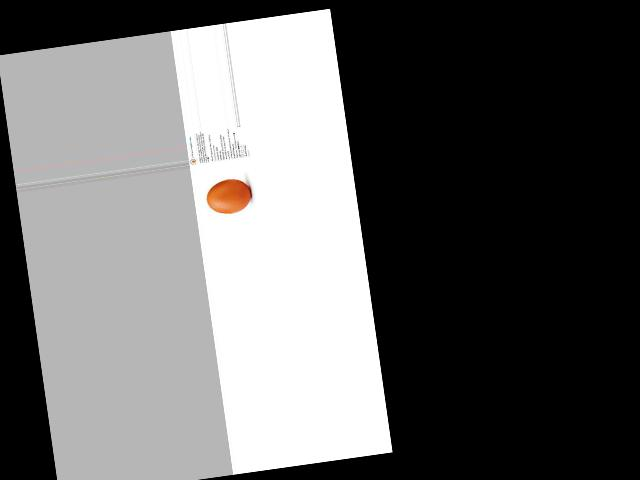egg: (204, 176, 253, 216)
